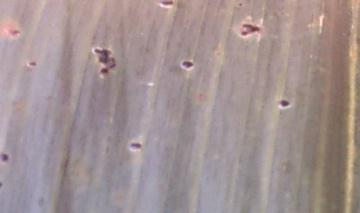tarspot: (94, 47, 116, 69), (240, 23, 261, 37), (181, 59, 194, 70), (128, 141, 142, 149), (278, 99, 290, 108), (10, 28, 22, 36), (1, 152, 9, 163), (161, 1, 174, 7), (26, 61, 37, 68), (237, 2, 244, 10), (101, 68, 109, 74), (1, 182, 3, 189)
